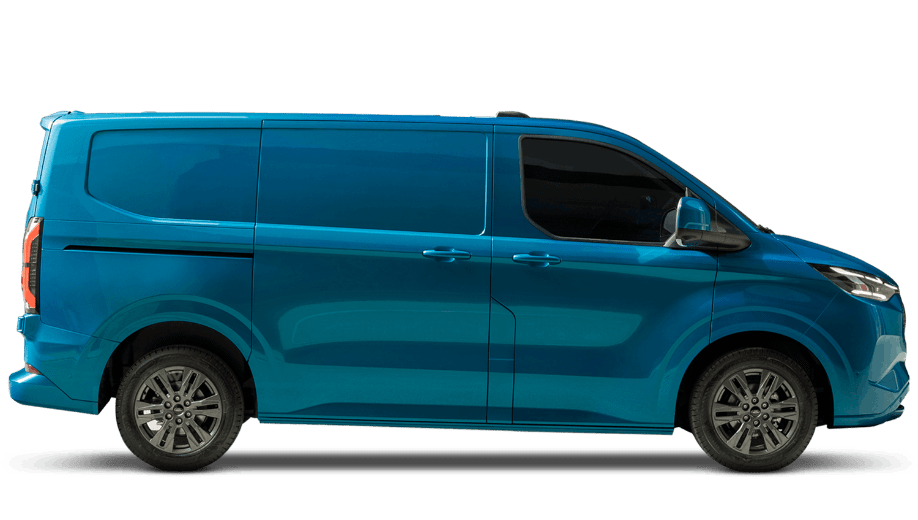van: (8, 108, 910, 472)
